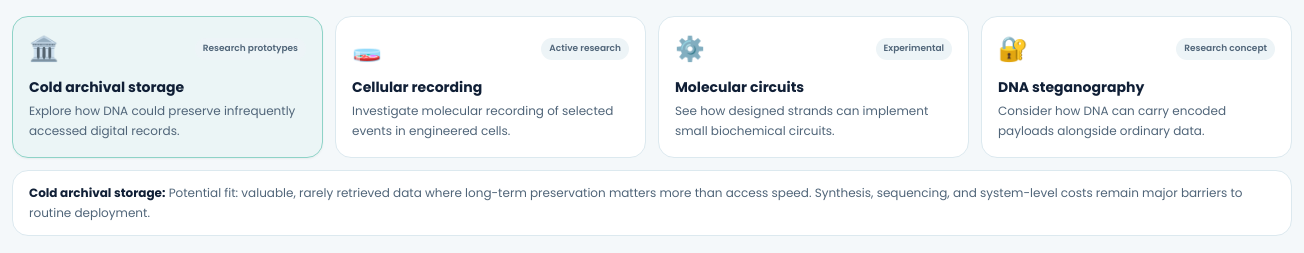
Test: interactive learning components › switches application details when a topic is selected
Click the button "Cellular recording": (585, 49) [335,16,646,158]
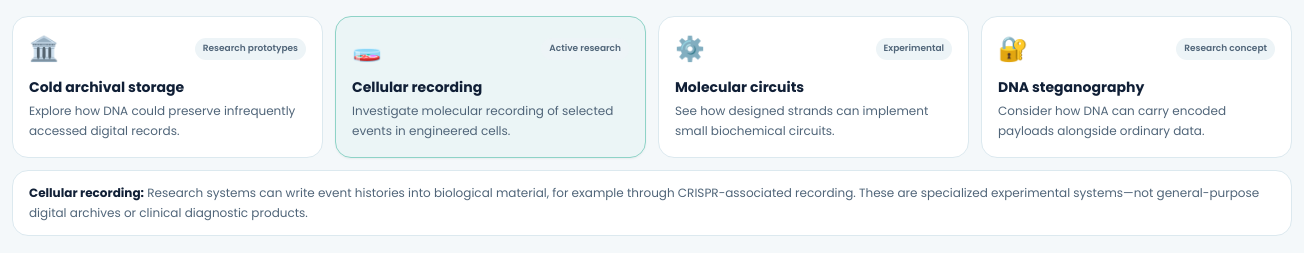
Expected: the text "not general-purpose digital archives" is shown, [29,184,1259,221]
